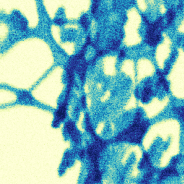hole_empty: (1, 100, 83, 184), (0, 36, 56, 93), (28, 66, 71, 110)
hole_filled: (83, 54, 137, 140), (139, 118, 183, 164), (48, 18, 87, 58)
